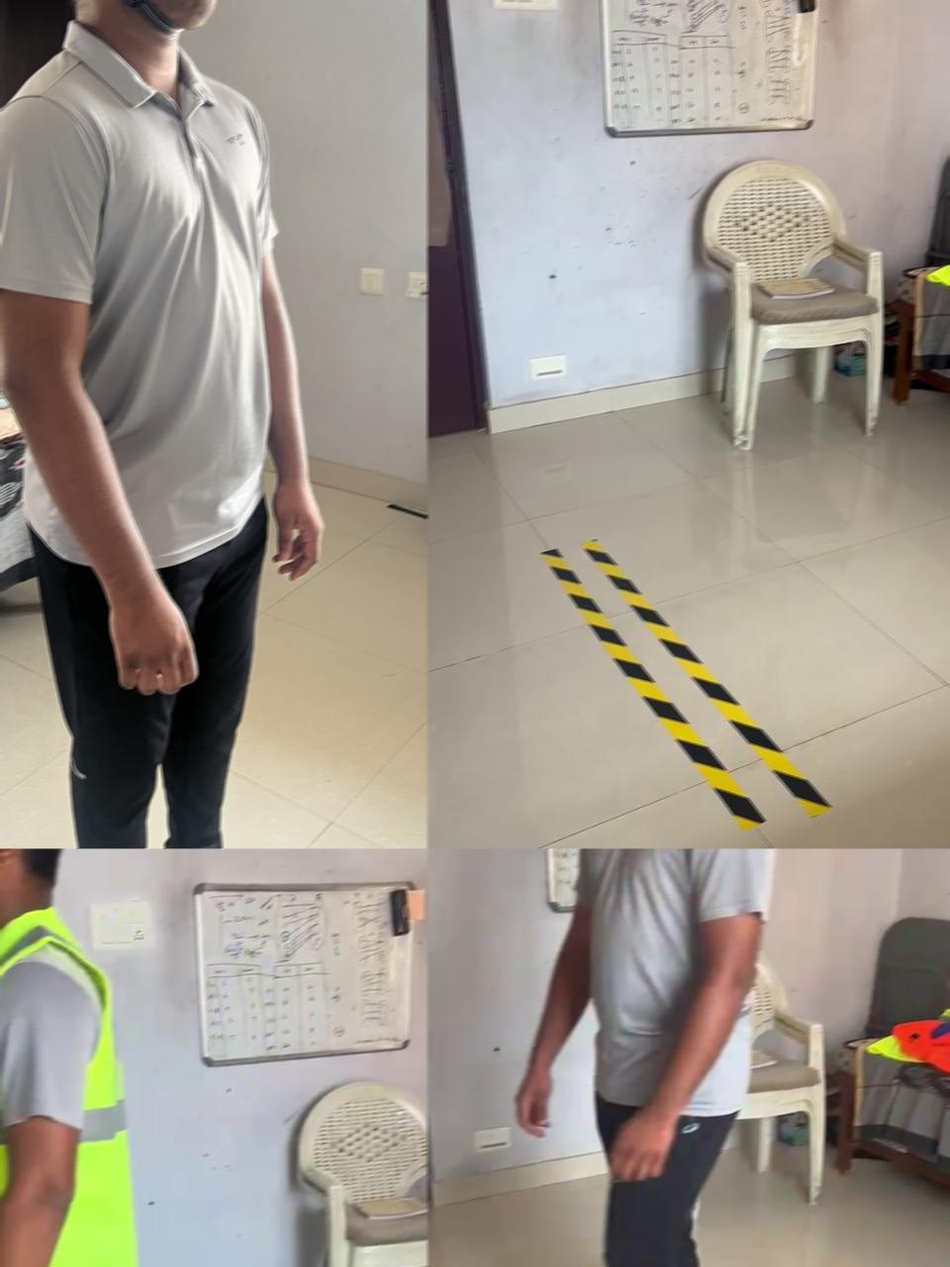BorderLine: (539, 538, 834, 828)
No_Helmet: (0, 848, 69, 924)
No_Vest: (0, 20, 276, 568), (572, 848, 772, 1121)
Person: (0, 0, 323, 848), (513, 848, 777, 1267), (0, 848, 165, 1267)
Vest: (0, 906, 141, 1267)
